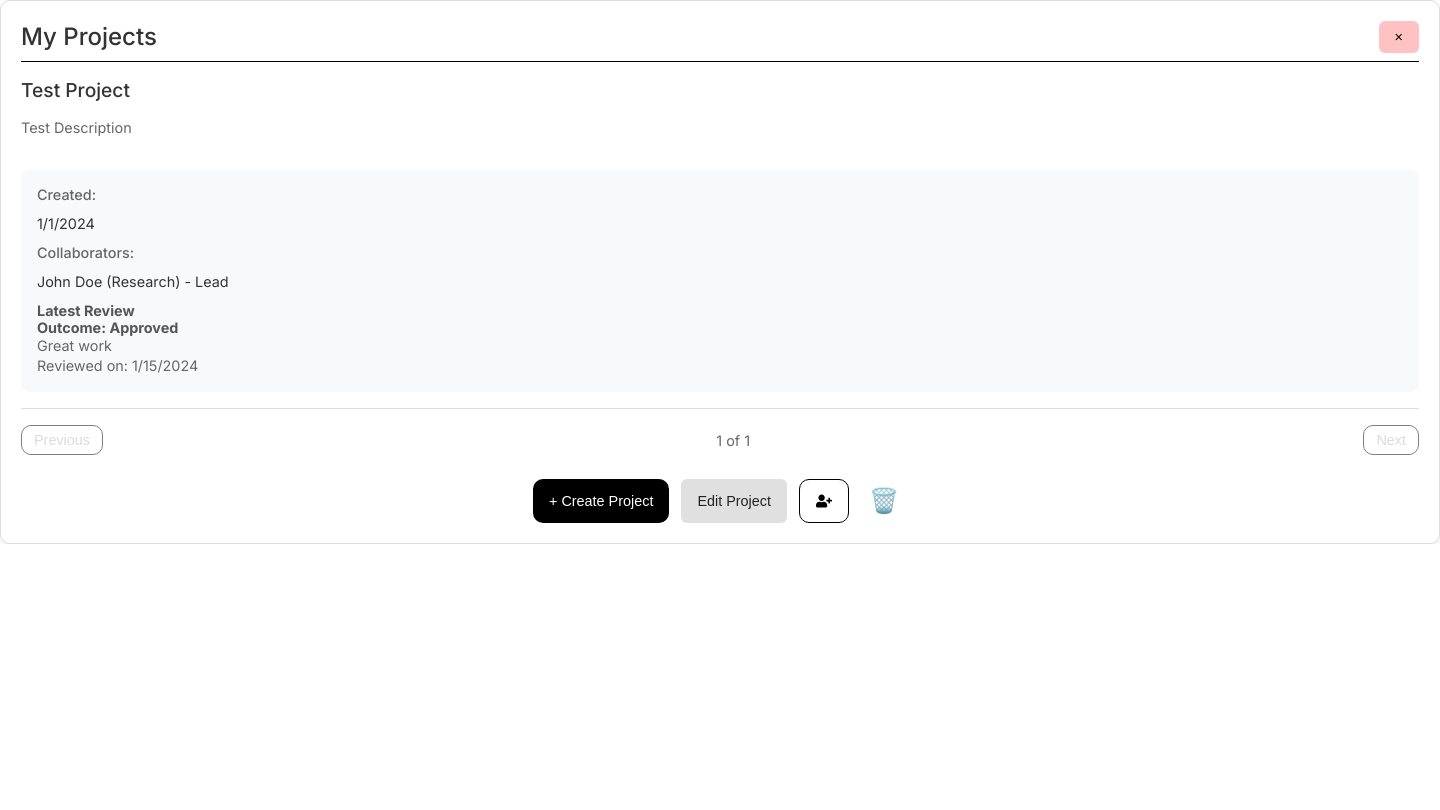
Test: ProjectsWidget › opens create project form when create button is clicked
Expected: the heading "Test Project" is shown, x1=21 y1=78 x2=130 y2=102
Click the button "+ Create Project". click: point(601, 502)
box: x1=533 y1=480 x2=669 y2=524
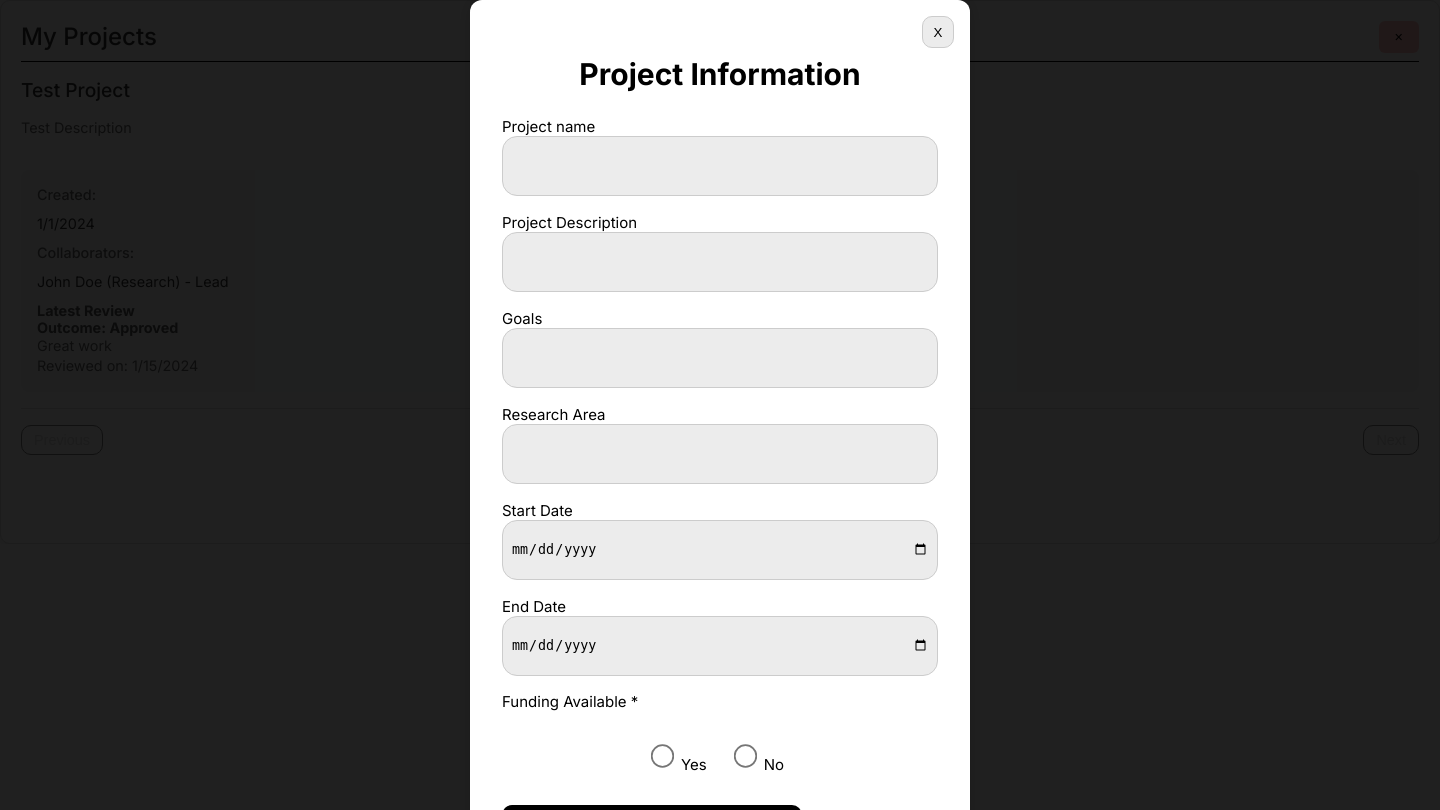
Expected: the heading "Project Information" is shown, x1=579 y1=56 x2=861 y2=92
